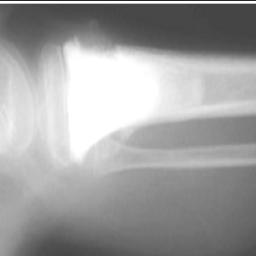cancer: (63, 39, 256, 169)
